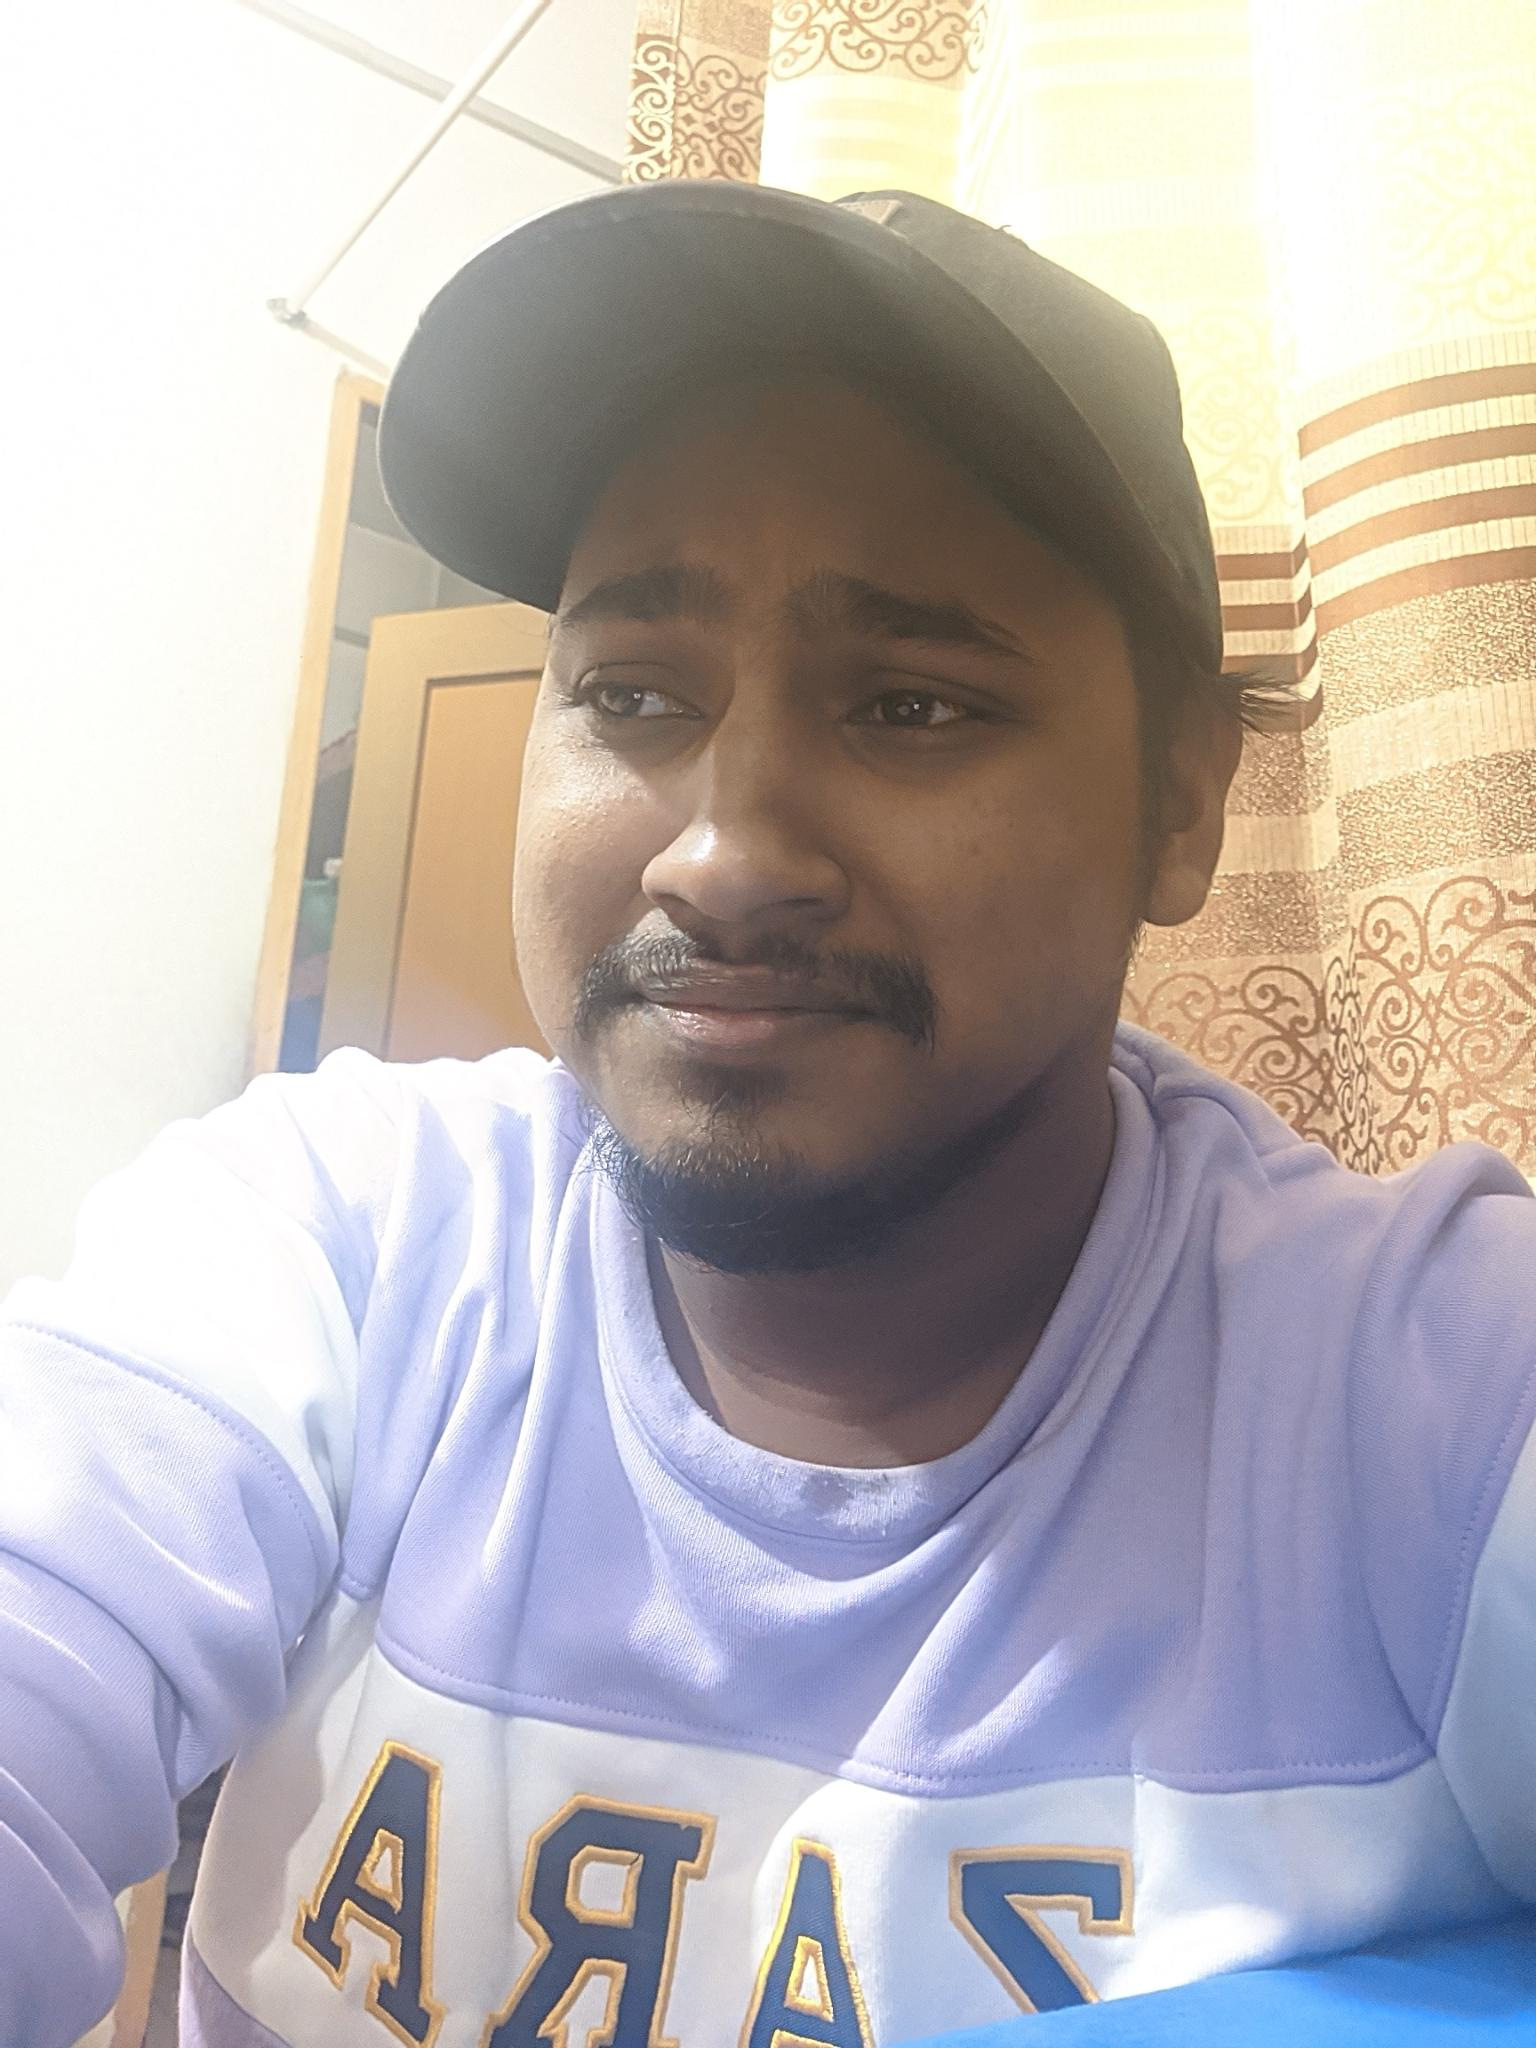Sad: (503, 534, 1058, 1219)
